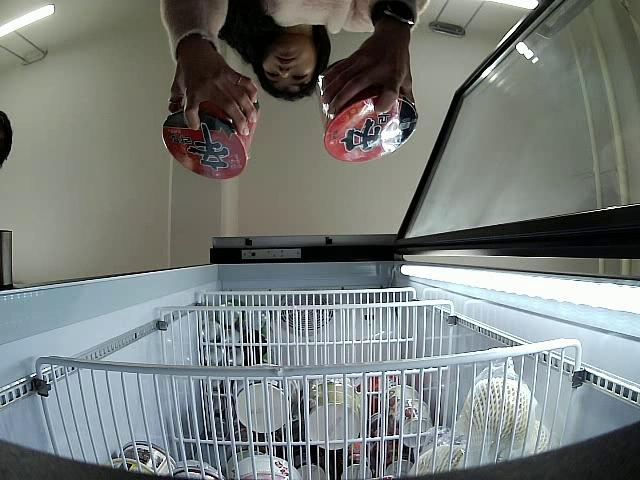00_hand: (167, 60, 260, 138), (318, 41, 414, 116)
01_shinRamen_L: (319, 59, 419, 164), (160, 104, 261, 181)
